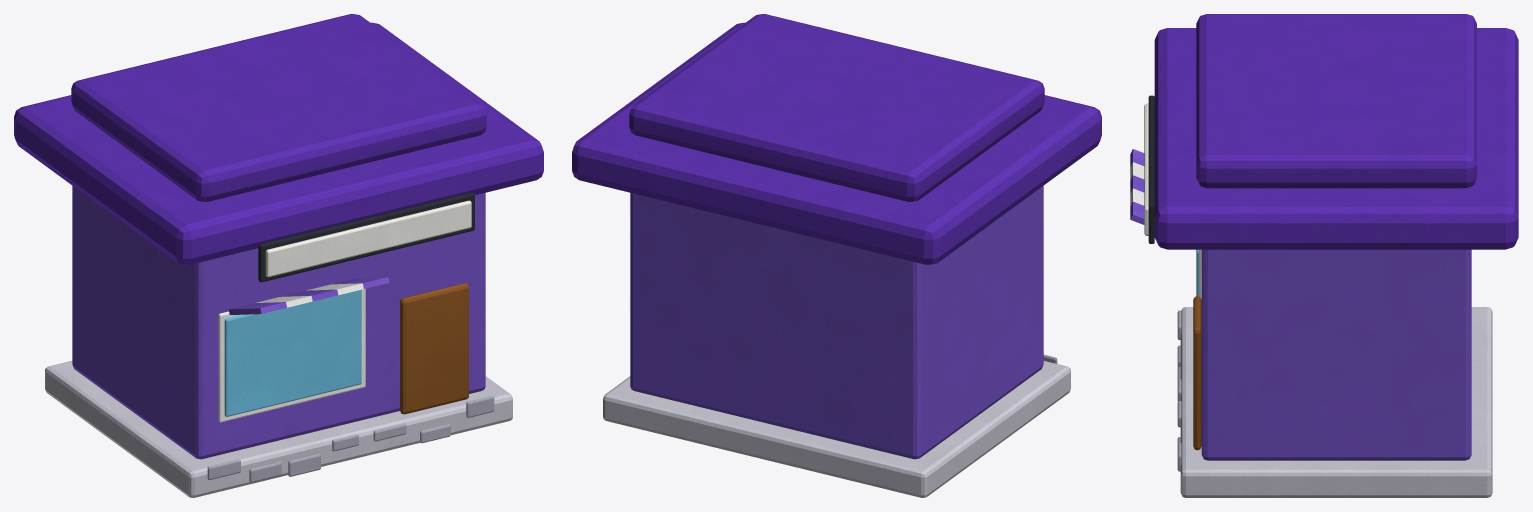
File: atelier3.glb
3 views of the same model, side by side, from view 1: azimuth 30°, elevation 25°; view 2: azimuth 150°, elevation 25°; view 3: azimuth 270°, elevation 25° (orthographic). The views are drawn at different scales.
Parts seen in each view (by area): view 1: auvent__awn; view 2: auvent__awn; view 3: auvent__awn.
Part boxes in pixels (box(x1,y1,x2,y2)): auvent__awn: box(14, 14, 543, 497); auvent__awn: box(572, 14, 1101, 497); auvent__awn: box(1130, 14, 1518, 497).
Bounding box in the file's own units: 4.3 × 3.52 × 3.73.
Materials: 1 (1 with a texture image).
